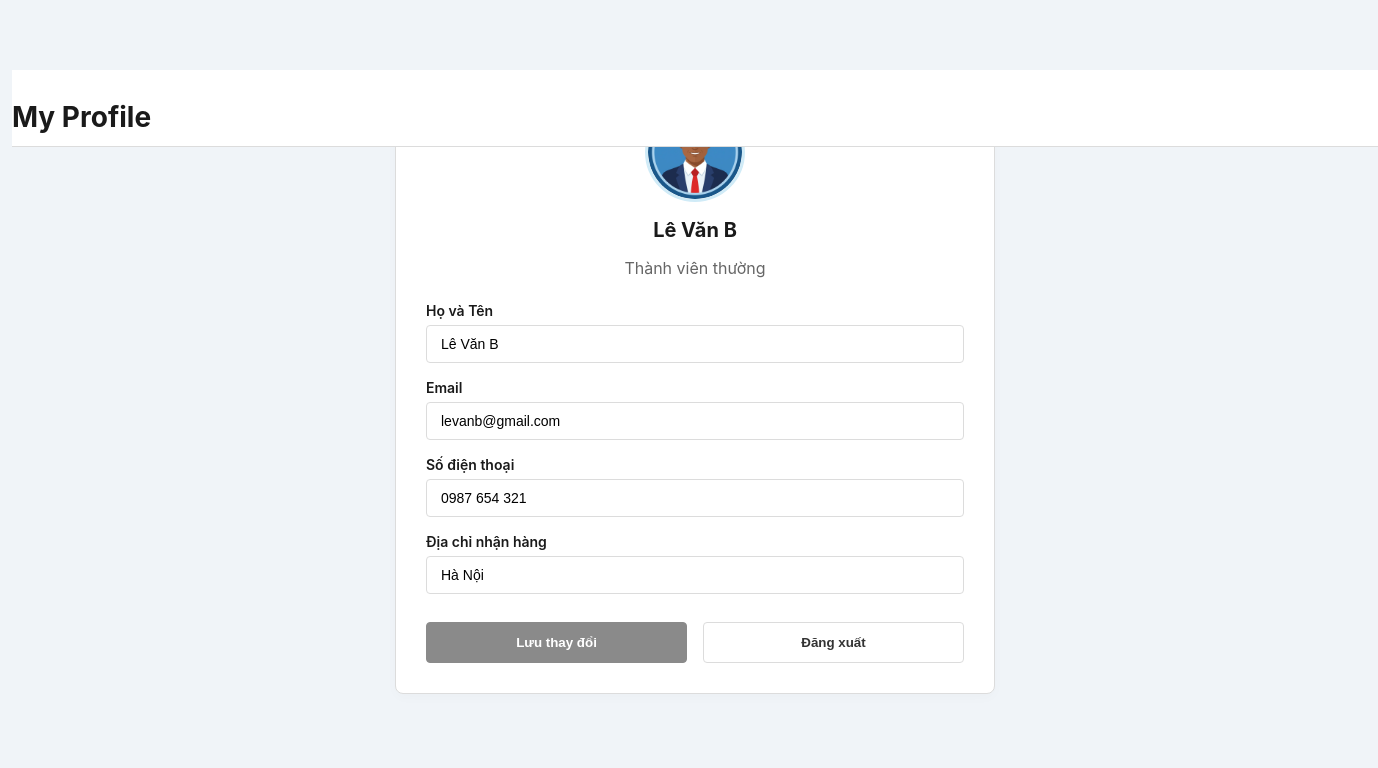
Test: Profile Component › shows error toast for invalid phone
Replace the text in the field labelled "Số điện thoại" with "123" at [695, 498], box [426,479,964,517]
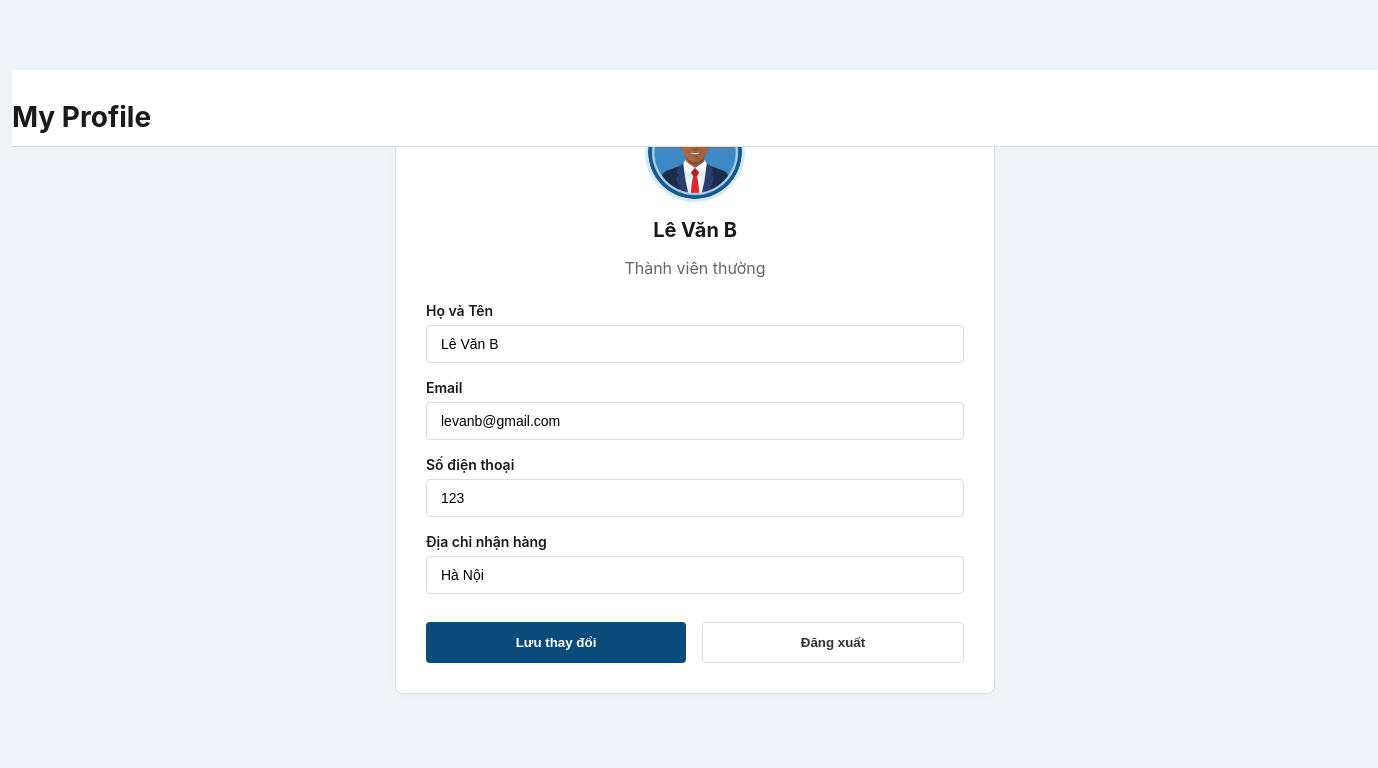
Submit the form "Lưu thay đổi", box [426,302,964,663]
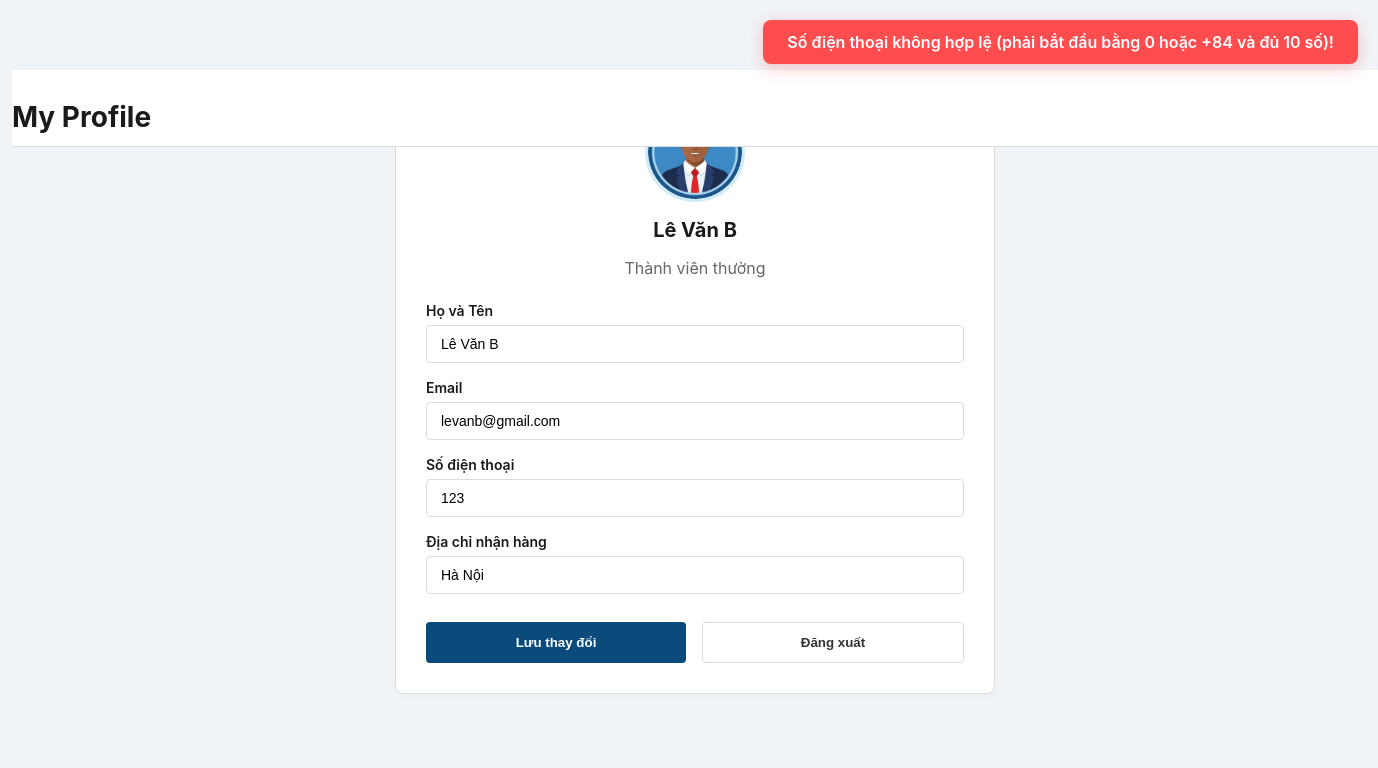
Expected: the text "Số điện thoại không hợp lệ (phải bắt đầu bằng 0 hoặc +84 và đủ 10 số)!" is shown, [763,20,1358,64]
